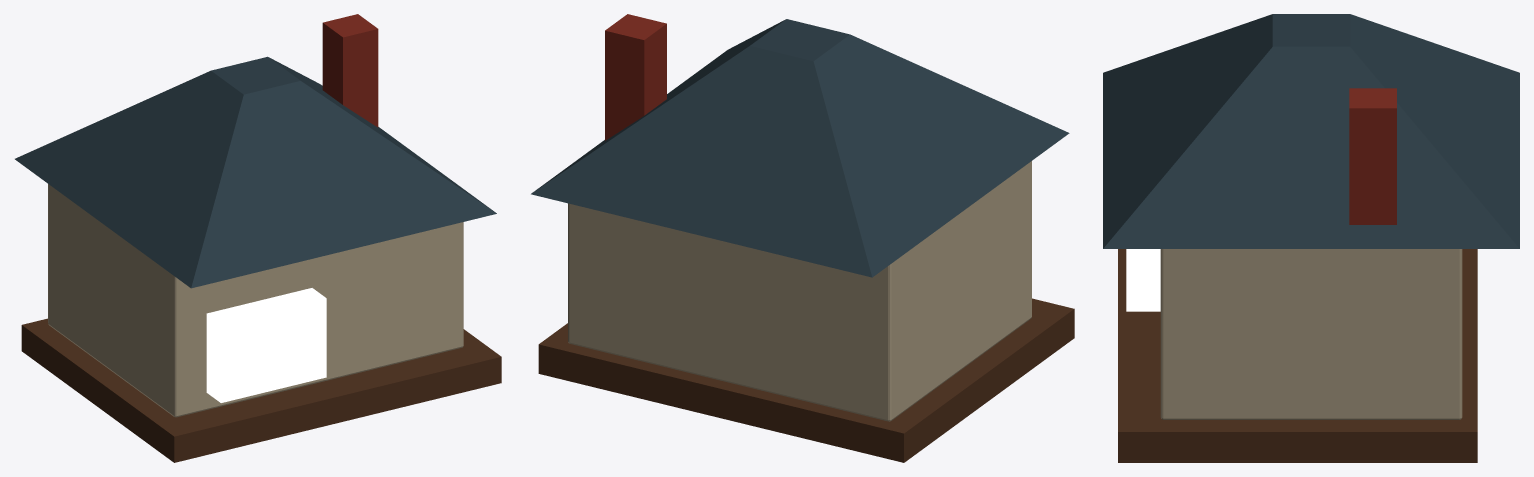
Rendered from kourindou.glb.
3 views of the same model, side by side, from view 1: azimuth 30°, elevation 25°; view 2: azimuth 150°, elevation 25°; view 3: azimuth 270°, elevation 25° (orthographic). The views are drawn at different scales.
Visible parts, largest first — view 1: kourindou_Opaque, kourindou_Emissive; view 2: kourindou_Opaque; view 3: kourindou_Opaque, kourindou_Emissive.
Boxes of the visible parts, box(x1,y1,x2,y2) form: kourindou_Opaque: box(15, 14, 501, 462); kourindou_Emissive: box(206, 288, 326, 402); kourindou_Opaque: box(531, 14, 1074, 462); kourindou_Opaque: box(1103, 14, 1519, 462); kourindou_Emissive: box(1126, 249, 1160, 311).
Size of the model in its own units: 13 by 10.95 by 12.16.
